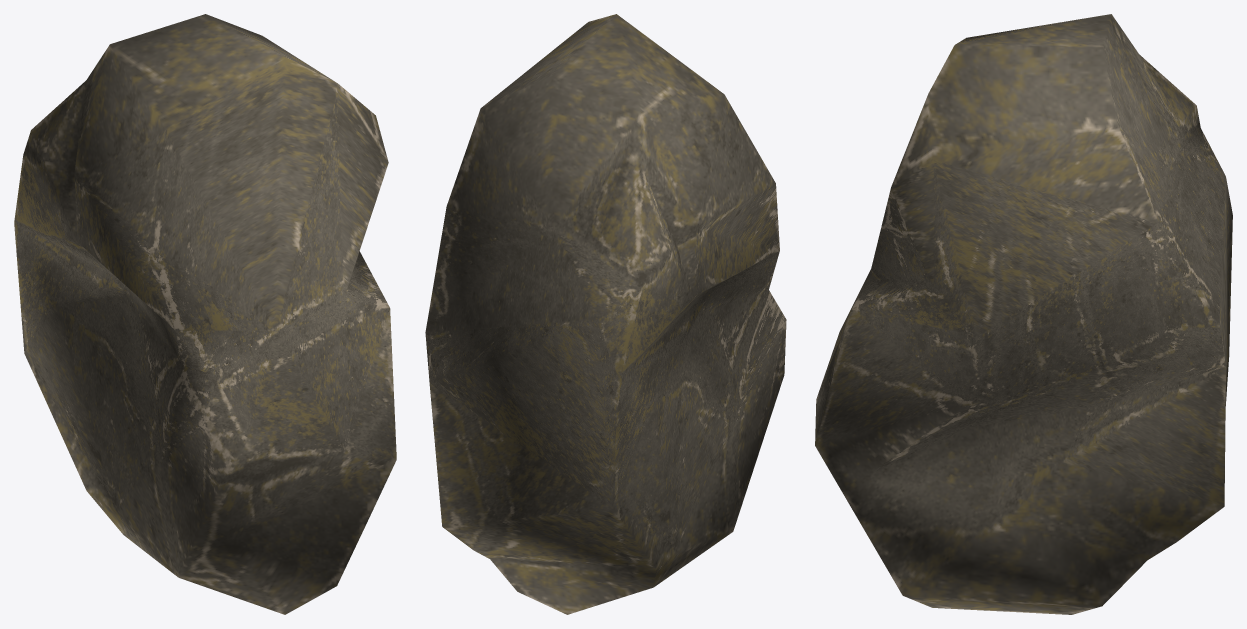
File: giant_rocks_medium_one.glb
The picture shows the model from 3 angles, left to right: view 1: azimuth 30°, elevation 25°; view 2: azimuth 150°, elevation 25°; view 3: azimuth 270°, elevation 25°; orthographic projection. The views are drawn at different scales.
Parts seen in each view (by area): view 1: 03-rock-small-low_rock-small-dark-01_0; view 2: 03-rock-small-low_rock-small-dark-01_0; view 3: 03-rock-small-low_rock-small-dark-01_0.
Part boxes in pixels (x1=…): 03-rock-small-low_rock-small-dark-01_0: x1=14, y1=14, x2=396, y2=614; 03-rock-small-low_rock-small-dark-01_0: x1=425, y1=14, x2=786, y2=614; 03-rock-small-low_rock-small-dark-01_0: x1=815, y1=14, x2=1232, y2=614.
Size of the model in its own units: 10.92 by 25.31 by 16.71.
1 material, 1 textured.
